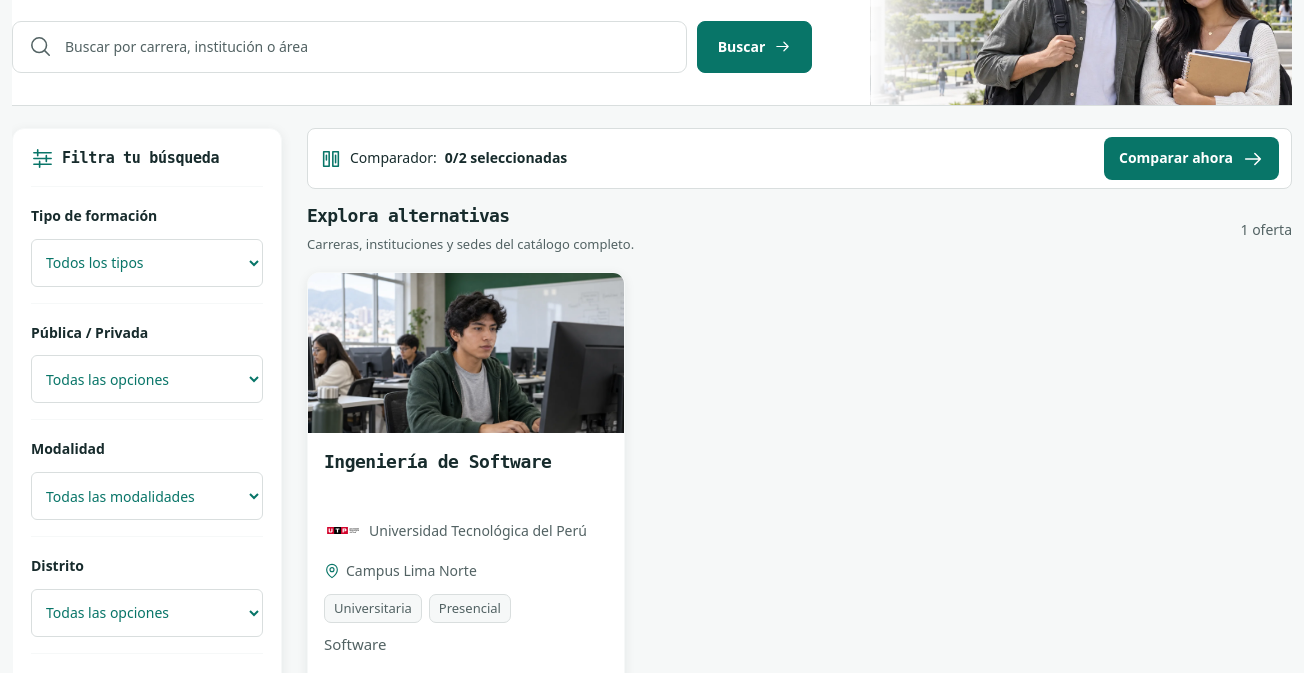
Scenario: Catálogo HU01 › combina búsqueda y filtros, conserva contexto en ficha y permite limpiar
The width and height of the screenshot is (1304, 673).
Expected: the heading "Ingeniería de Software" is shown, [324, 451, 551, 472]
Type "software" into the search field at (367, 47), box [65, 23, 669, 71]
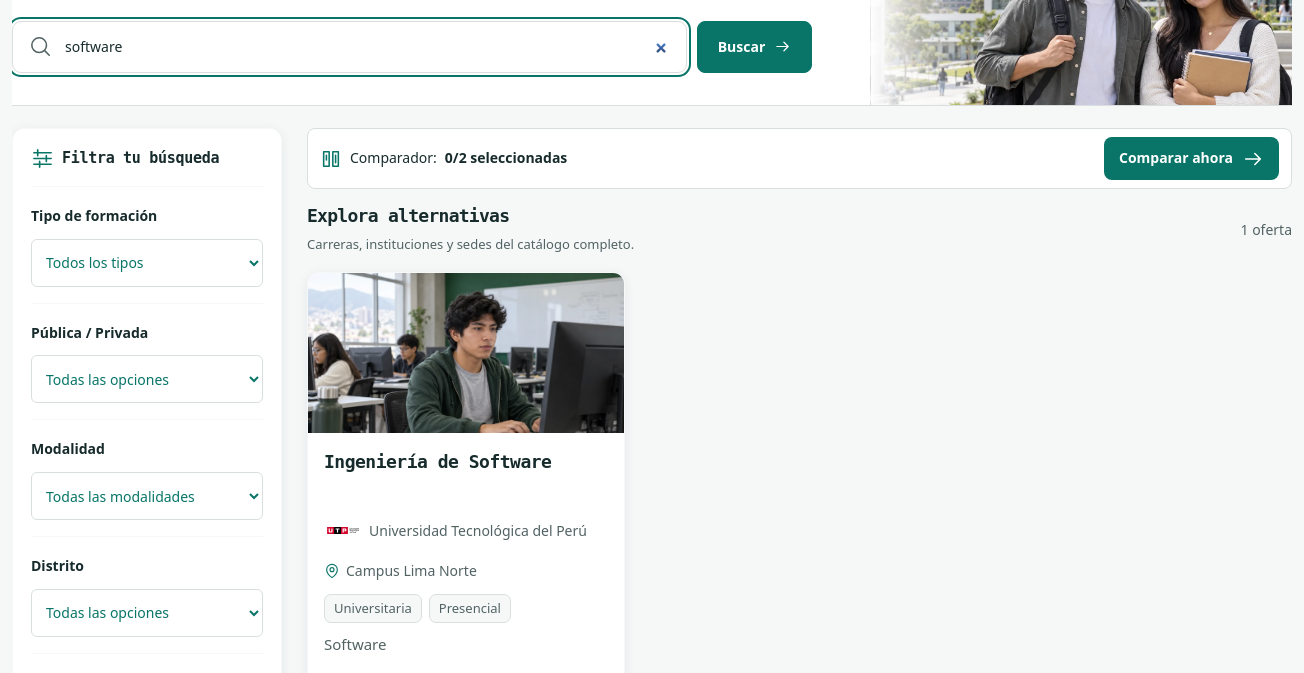
Click the button "Buscar" at (754, 47), box [697, 21, 812, 73]
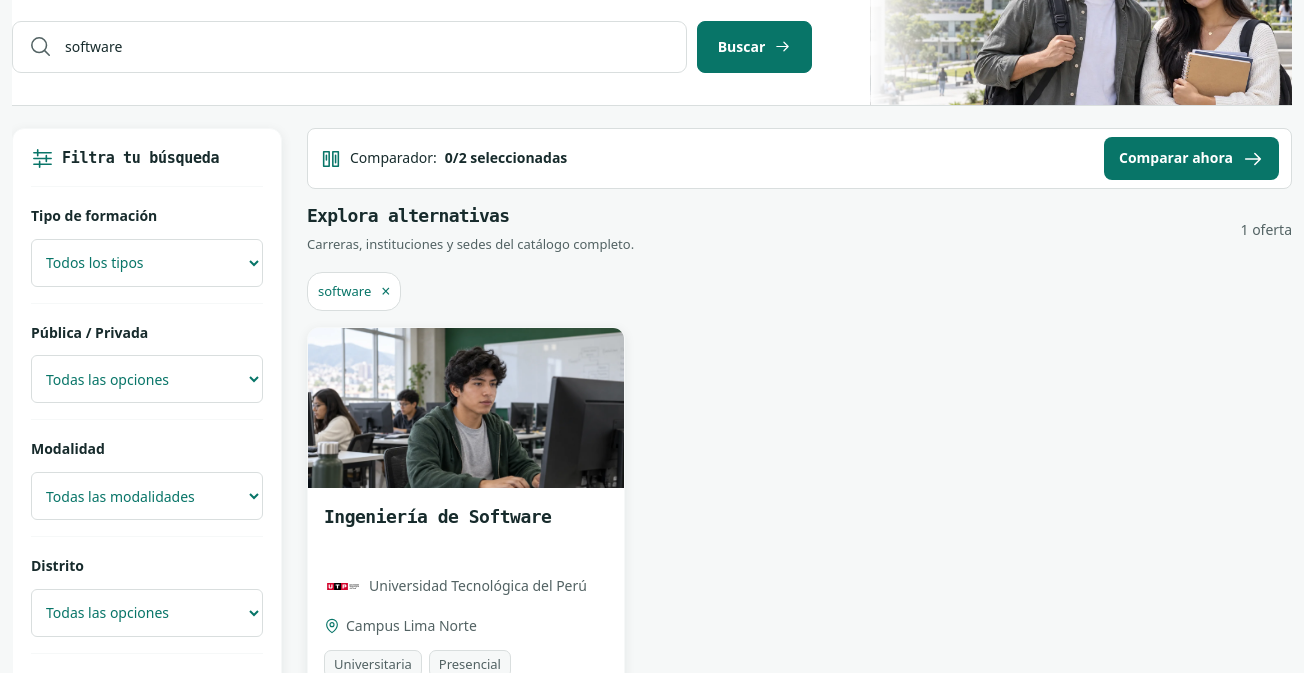
Select "Virtual" in the dropdown labelled "Modalidad" at (147, 496), box [31, 472, 263, 520]
(page scrolled)
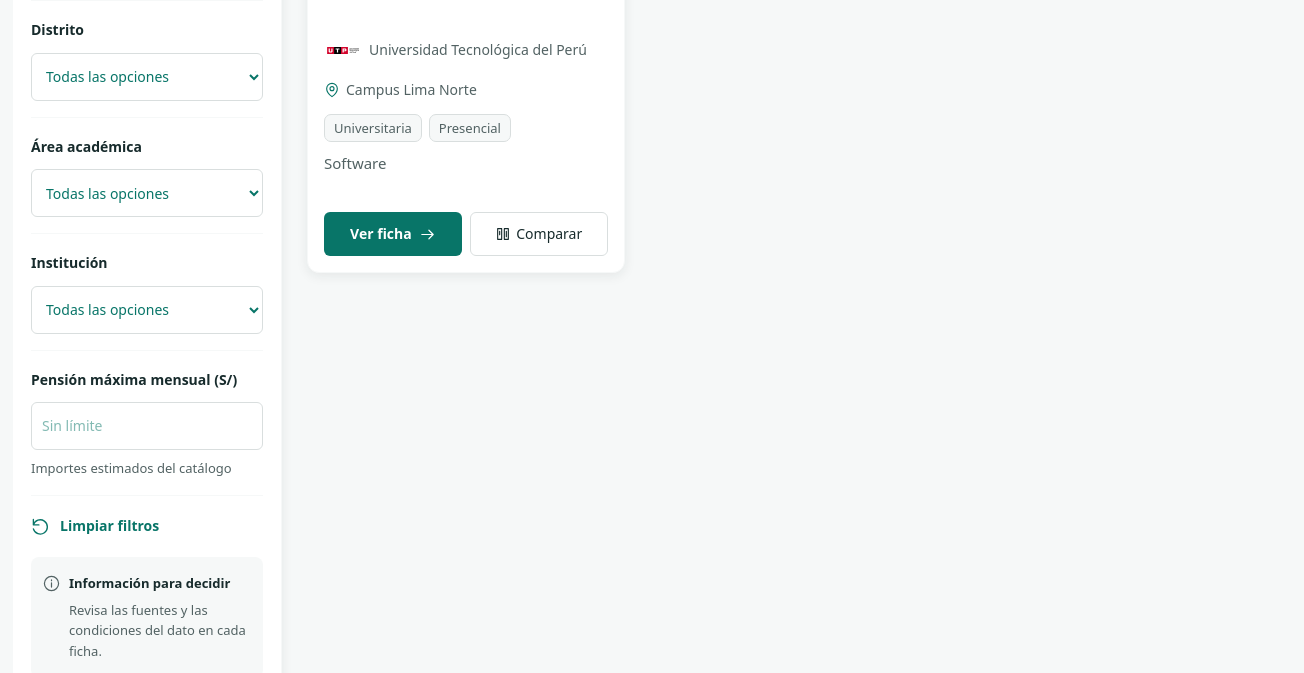
Click the button "Limpiar filtros" at (147, 526), box [31, 495, 263, 557]
(page scrolled)
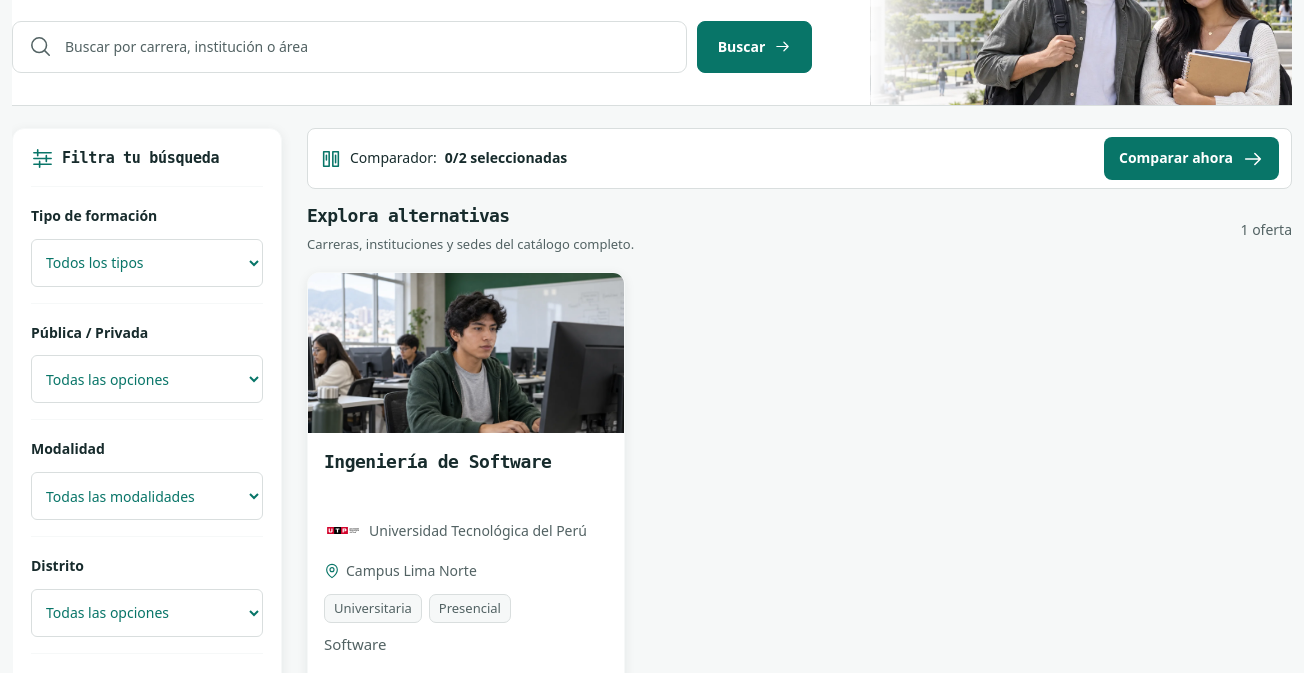
Expected: the search field is empty, [65, 23, 669, 71]
